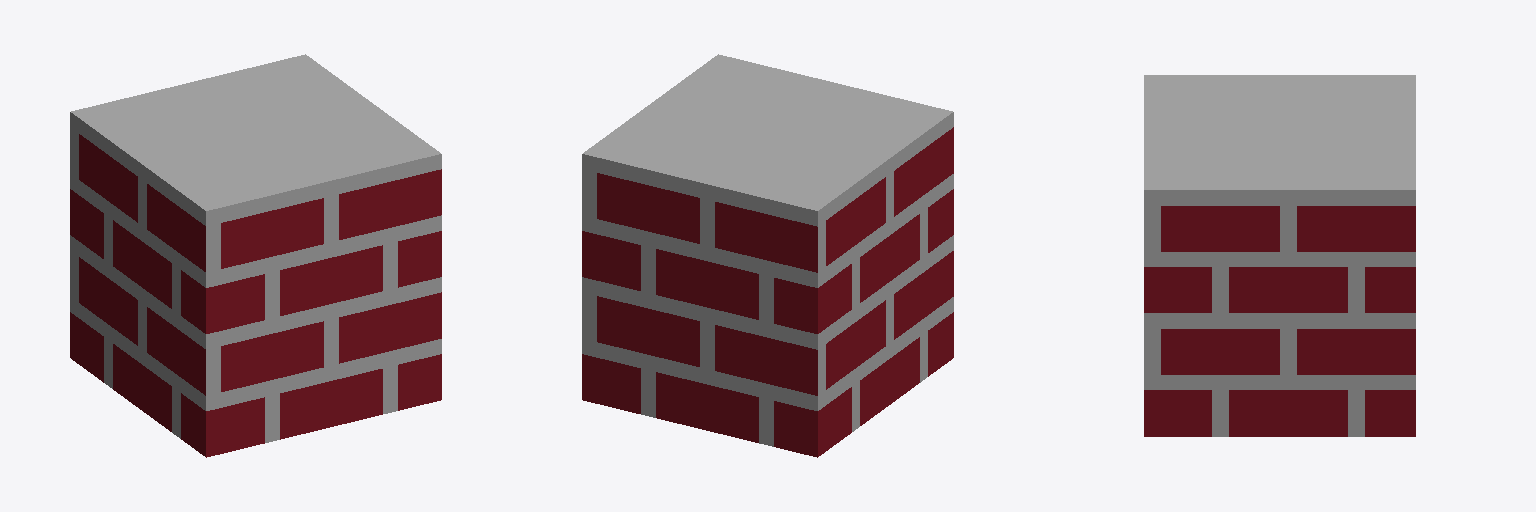
3 views of the same model, side by side, from view 1: azimuth 30°, elevation 25°; view 2: azimuth 150°, elevation 25°; view 3: azimuth 270°, elevation 25° (orthographic).
Visible parts, largest first — view 1: cube; view 2: cube; view 3: cube.
Part boxes in pixels (bbox=[...]): cube: bbox=[70, 54, 441, 457]; cube: bbox=[582, 54, 953, 457]; cube: bbox=[1144, 75, 1415, 436].
Bounding box in the file's own units: 1 × 1 × 1.
Materials: 1 (1 with a texture image).